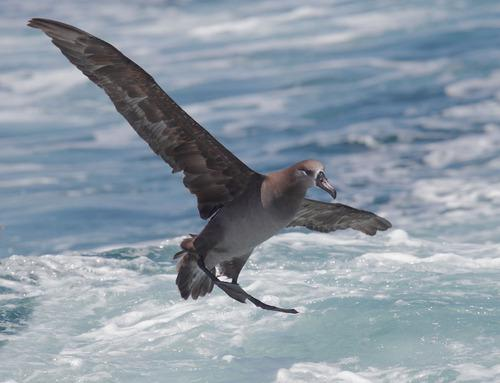001.Black_footed_Albatross: (30, 16, 391, 315)
